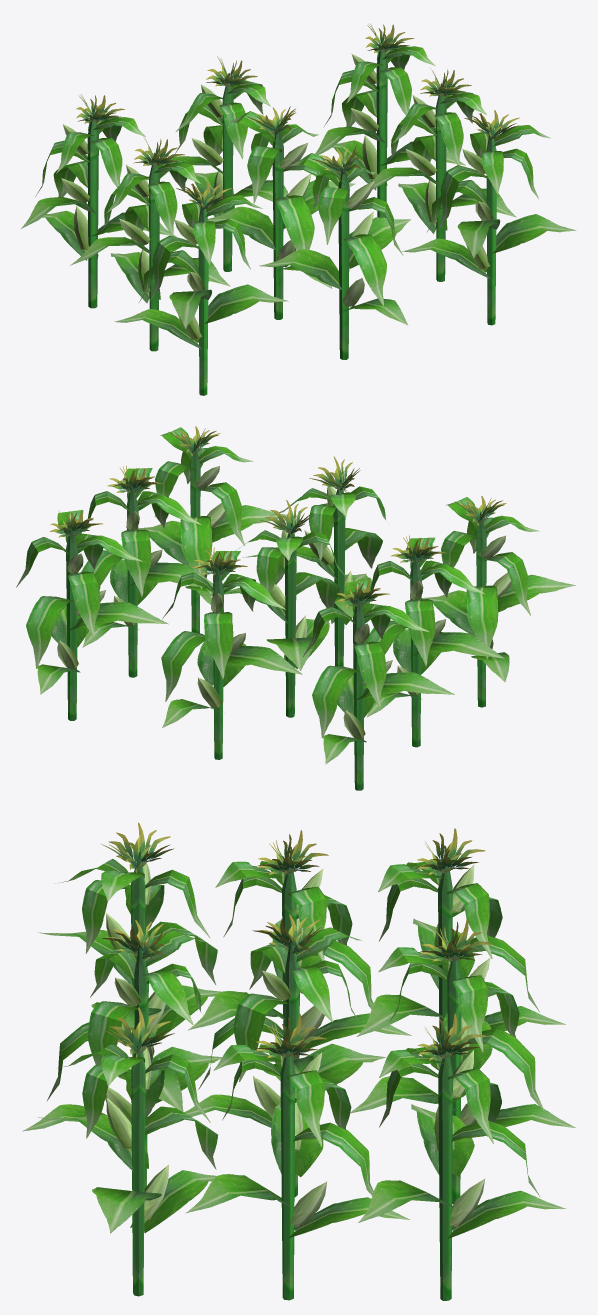
Rendered from map_1002_yumi01.FBX.
3 views of the same model, one above another, from view 1: azimuth 30°, elevation 25°; view 2: azimuth 150°, elevation 25°; view 3: azimuth 270°, elevation 25° (orthographic). The views are drawn at different scales.
Visible parts, largest first — view 1: map_1002_yumi01; view 2: map_1002_yumi01; view 3: map_1002_yumi01.
Part boxes in pixels (x1,y1,x2,y2): map_1002_yumi01: (21,23,576,395); map_1002_yumi01: (16,426,575,790); map_1002_yumi01: (22,822,575,1300).
Bounding box in the file's own units: 1.68 × 0.7609 × 1.39.
1 material, 1 textured.
